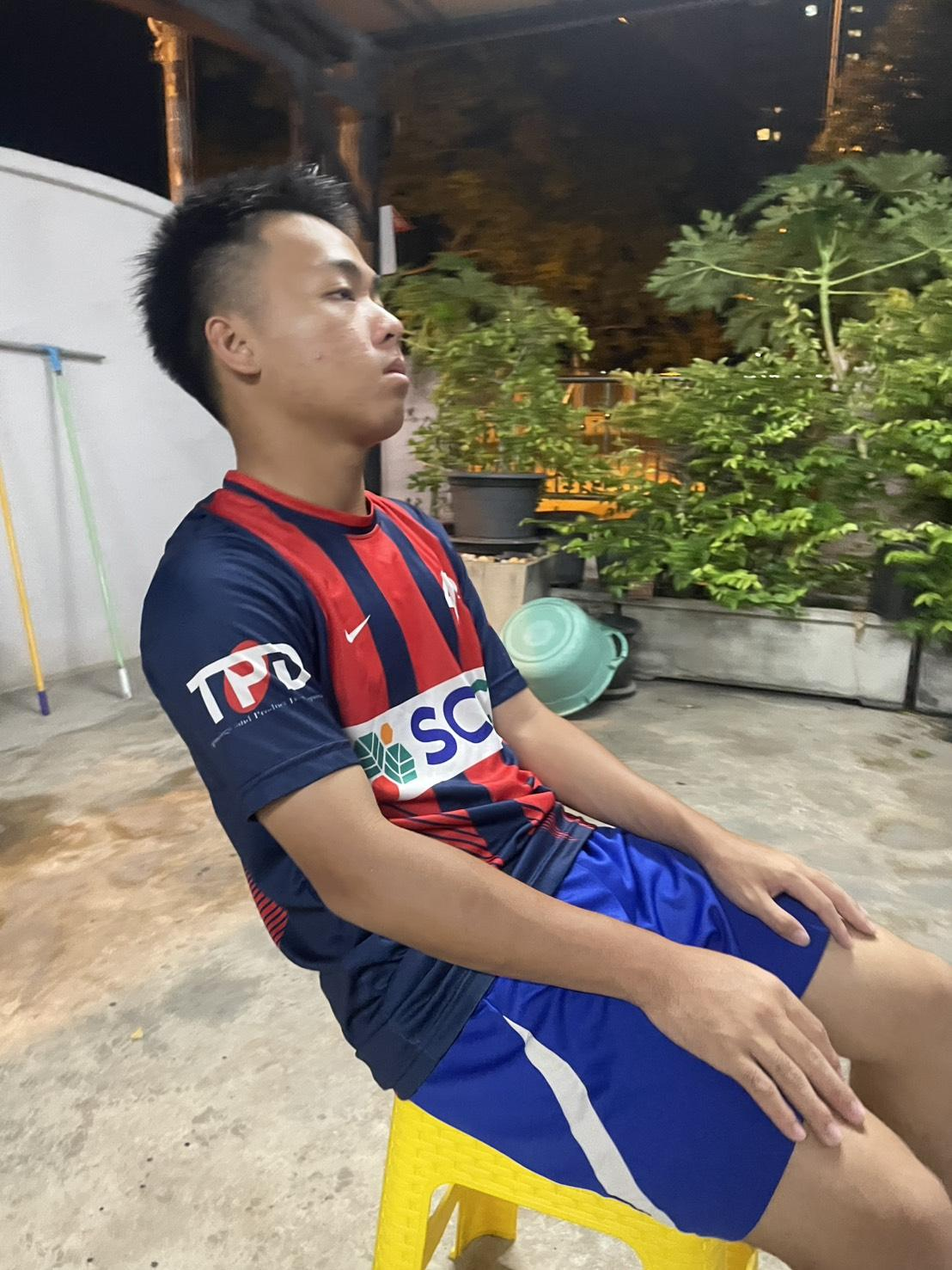BadPosture: (138, 165, 951, 1269)
